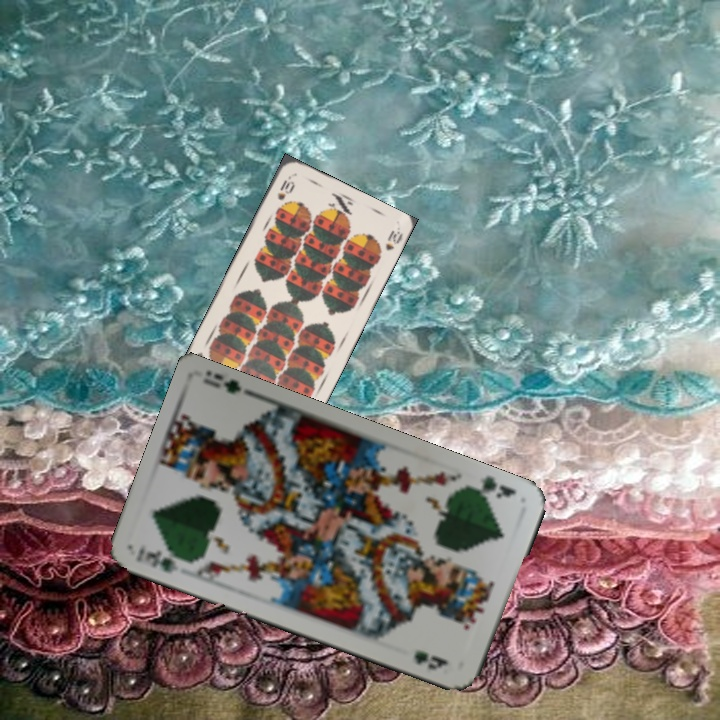GK: (131, 540, 192, 576), (467, 472, 519, 502)
S10: (273, 172, 296, 203)
